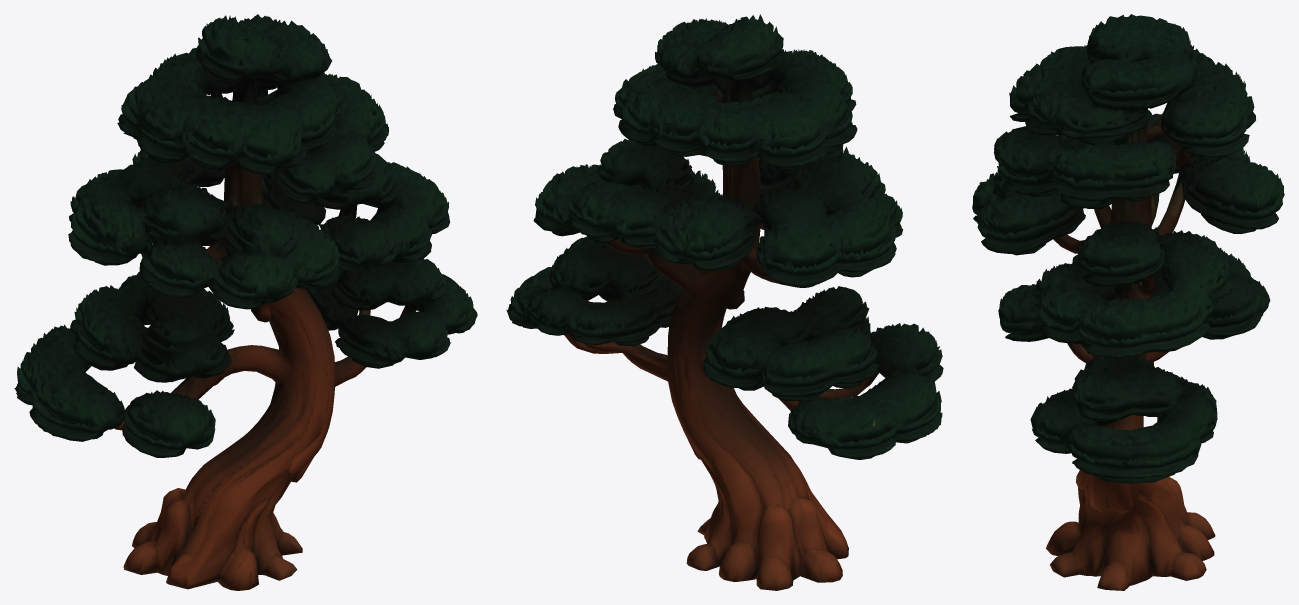
The model's file is jade_pine.glb.
3 views of the same model, side by side, from view 1: azimuth 30°, elevation 25°; view 2: azimuth 150°, elevation 25°; view 3: azimuth 270°, elevation 25° (orthographic). The views are drawn at different scales.
Visible parts, largest first — view 1: node_0; view 2: node_0; view 3: node_0.
Part boxes in pixels (x1,y1,x2,y2): node_0: (14, 14, 477, 590); node_0: (506, 14, 943, 590); node_0: (972, 14, 1284, 590).
Size of the model in its own units: 5.07 by 6 by 3.13.
2 materials, 2 textured.
